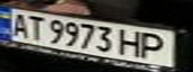3: (93, 24, 118, 54)
7: (78, 21, 96, 51)
9: (42, 16, 66, 45), (60, 19, 81, 48)
A: (3, 10, 33, 38)
H: (115, 27, 148, 58)
P: (136, 30, 175, 61)
T: (24, 12, 48, 41)
